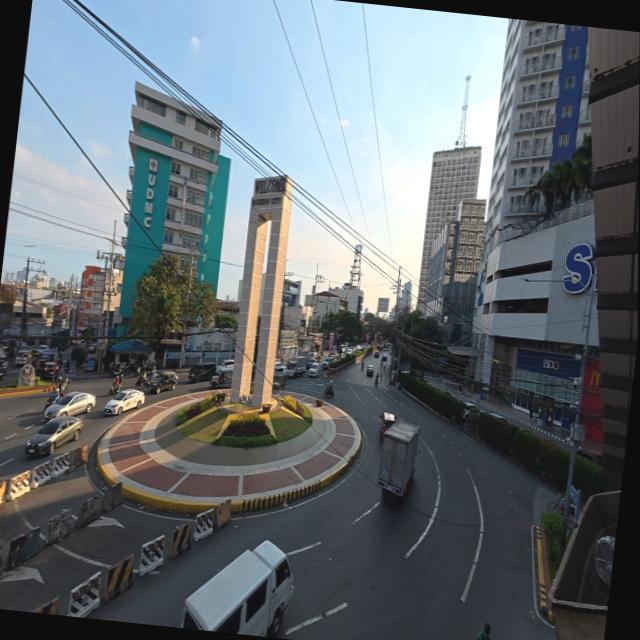Jeepneys: (211, 359, 234, 389)
car: (25, 417, 83, 455), (44, 392, 95, 420), (104, 389, 145, 415), (149, 372, 178, 393), (188, 363, 216, 382), (35, 360, 60, 380), (380, 412, 397, 441), (463, 402, 480, 421), (272, 363, 287, 382), (15, 351, 31, 366), (217, 359, 234, 373), (489, 412, 509, 423), (309, 362, 319, 377), (322, 356, 331, 369), (36, 345, 48, 353), (366, 365, 374, 377), (306, 358, 313, 369), (354, 345, 362, 353), (344, 348, 352, 356), (274, 358, 281, 367), (373, 350, 378, 358), (382, 354, 386, 363)
motorcycle: (45, 389, 60, 409), (108, 382, 121, 396), (136, 373, 149, 386), (112, 364, 123, 378), (0, 362, 7, 379), (325, 387, 334, 397), (64, 360, 70, 373), (375, 376, 378, 386), (361, 362, 363, 370)
trucks: (378, 420, 420, 498), (284, 354, 307, 379)
vans: (182, 541, 293, 637)
